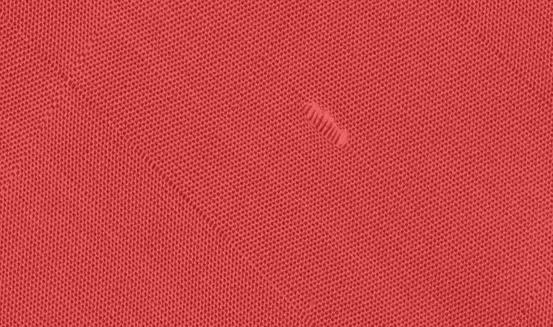slub: (298, 95, 351, 149)
